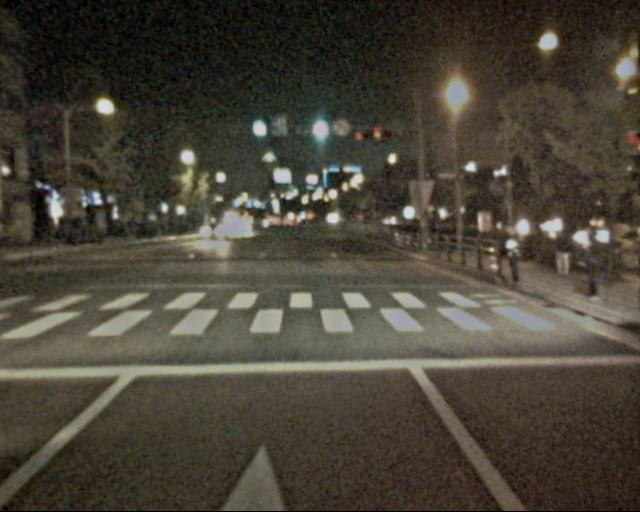person: (572, 225, 609, 303), (497, 225, 527, 299), (546, 219, 578, 287)
